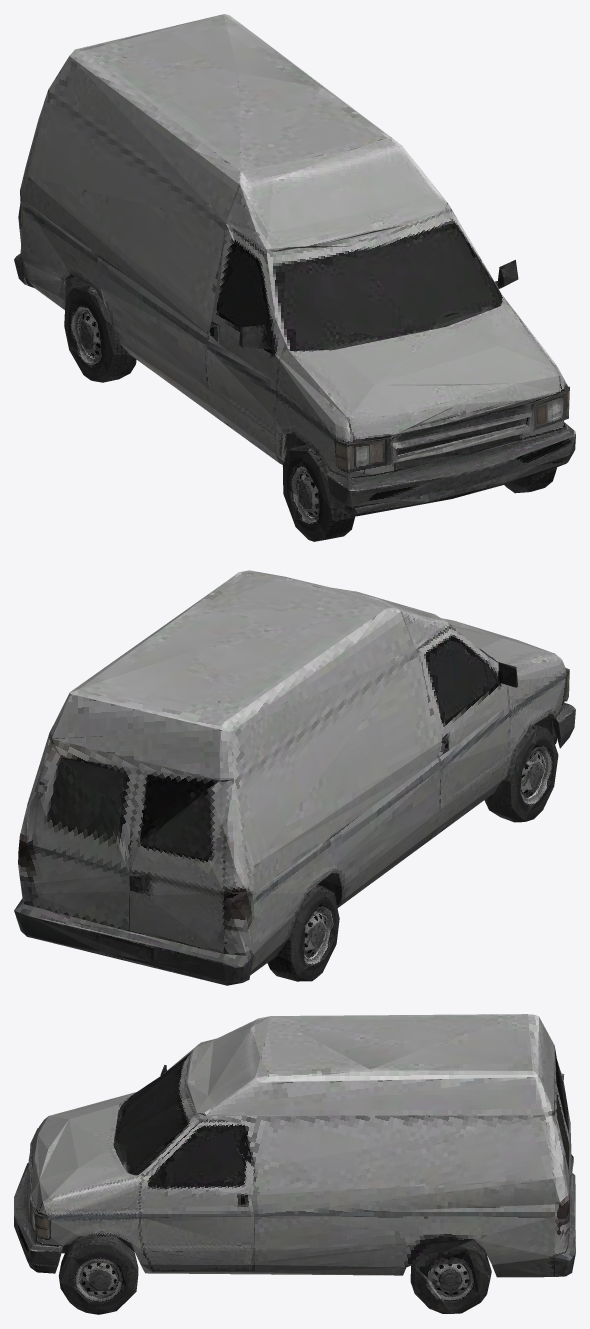
Rendered from van_white.glb.
The picture shows the model from 3 angles, top to bottom: view 1: azimuth 30°, elevation 25°; view 2: azimuth 150°, elevation 25°; view 3: azimuth 270°, elevation 25°; orthographic projection. The views are drawn at different scales.
Parts seen in each view (by area): view 1: car_van; view 2: car_van; view 3: car_van.
Part boxes in pixels (box(x1,y1,x2,y2)): car_van: box(14, 14, 575, 541); car_van: box(14, 570, 575, 985); car_van: box(14, 1014, 575, 1314).
Bounding box in the file's own units: 2.27 × 2.24 × 4.95.
1 material, 1 textured.
